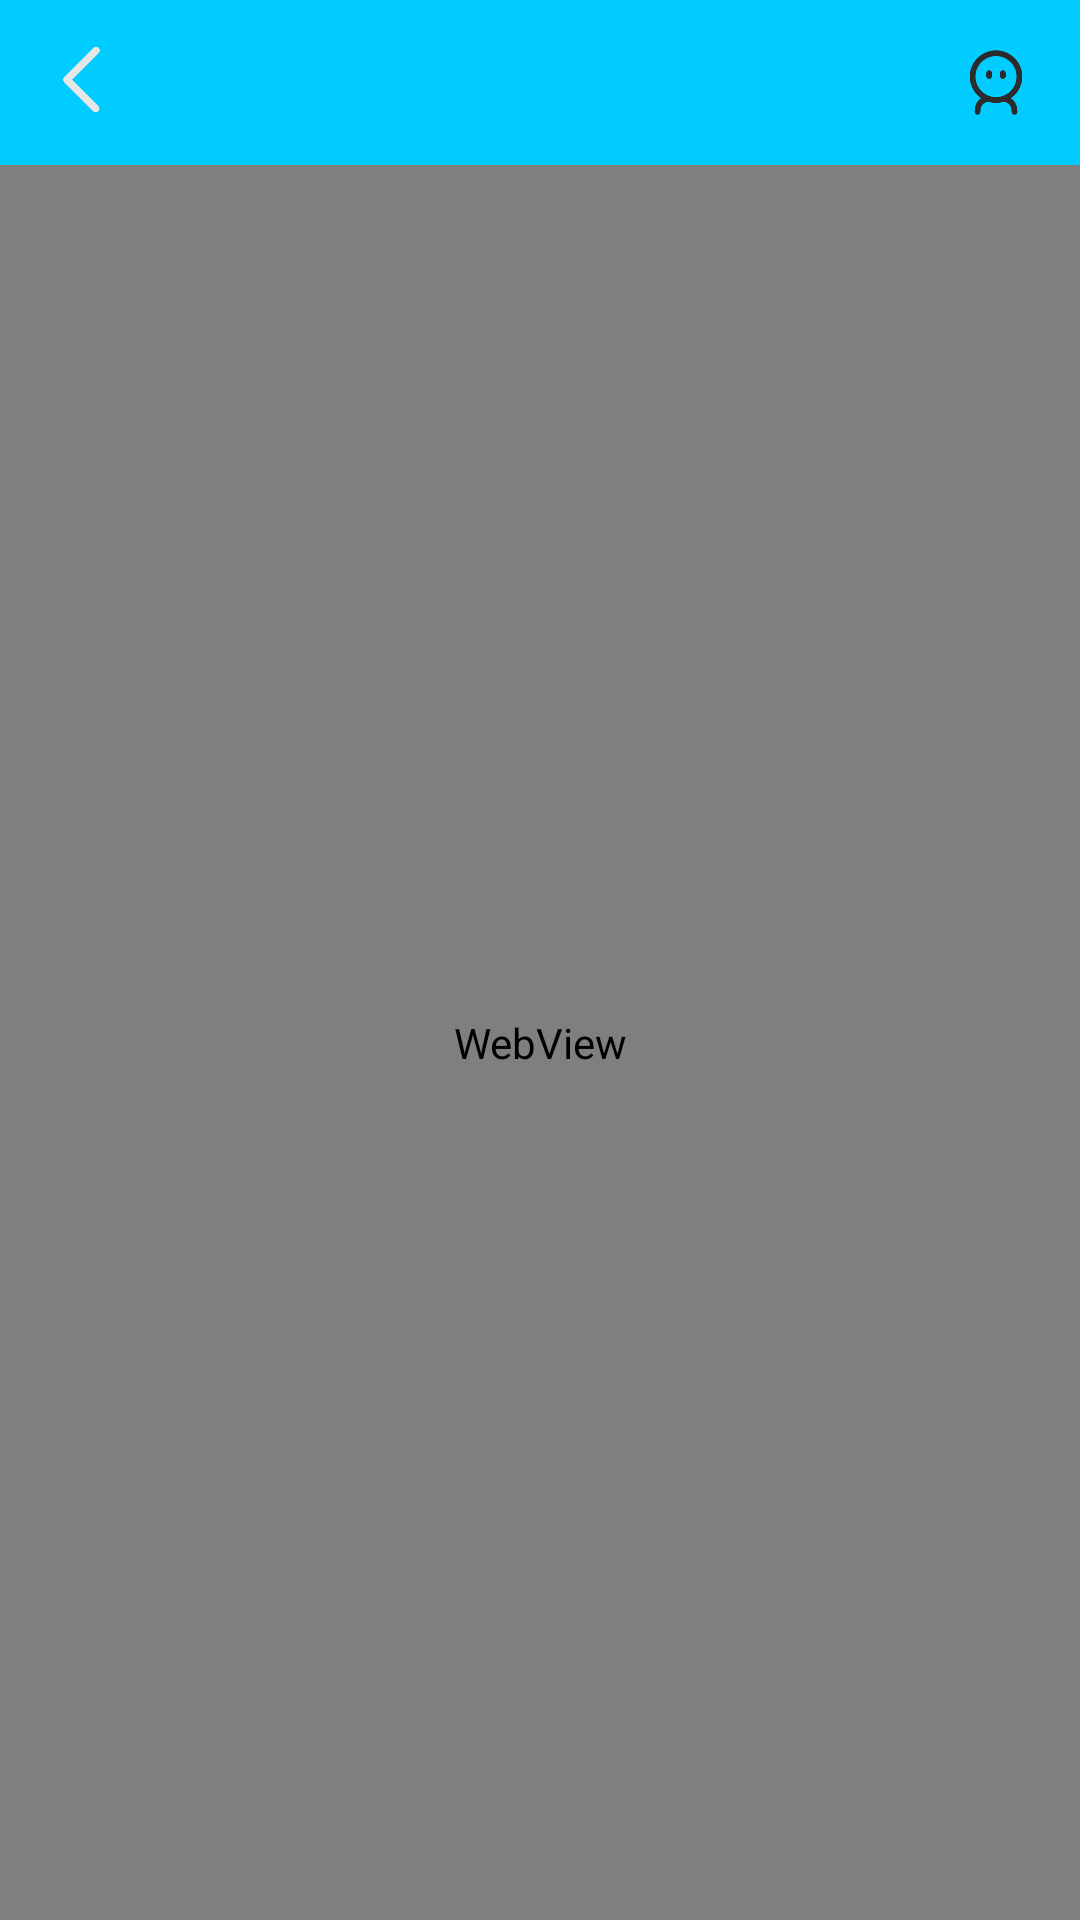

Where to tap for icons on this 1080 × 1920 app screen, as (x=x, y=y):
back: (x=81, y=79)
